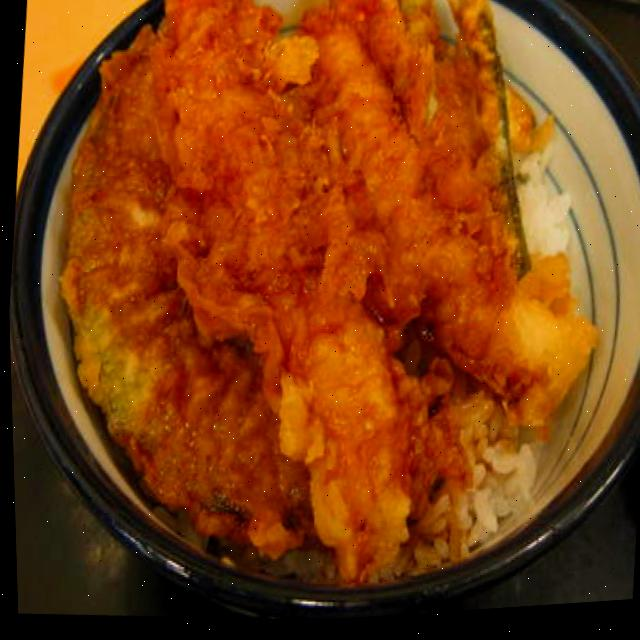熟制海鲜: (3, 0, 630, 604)
